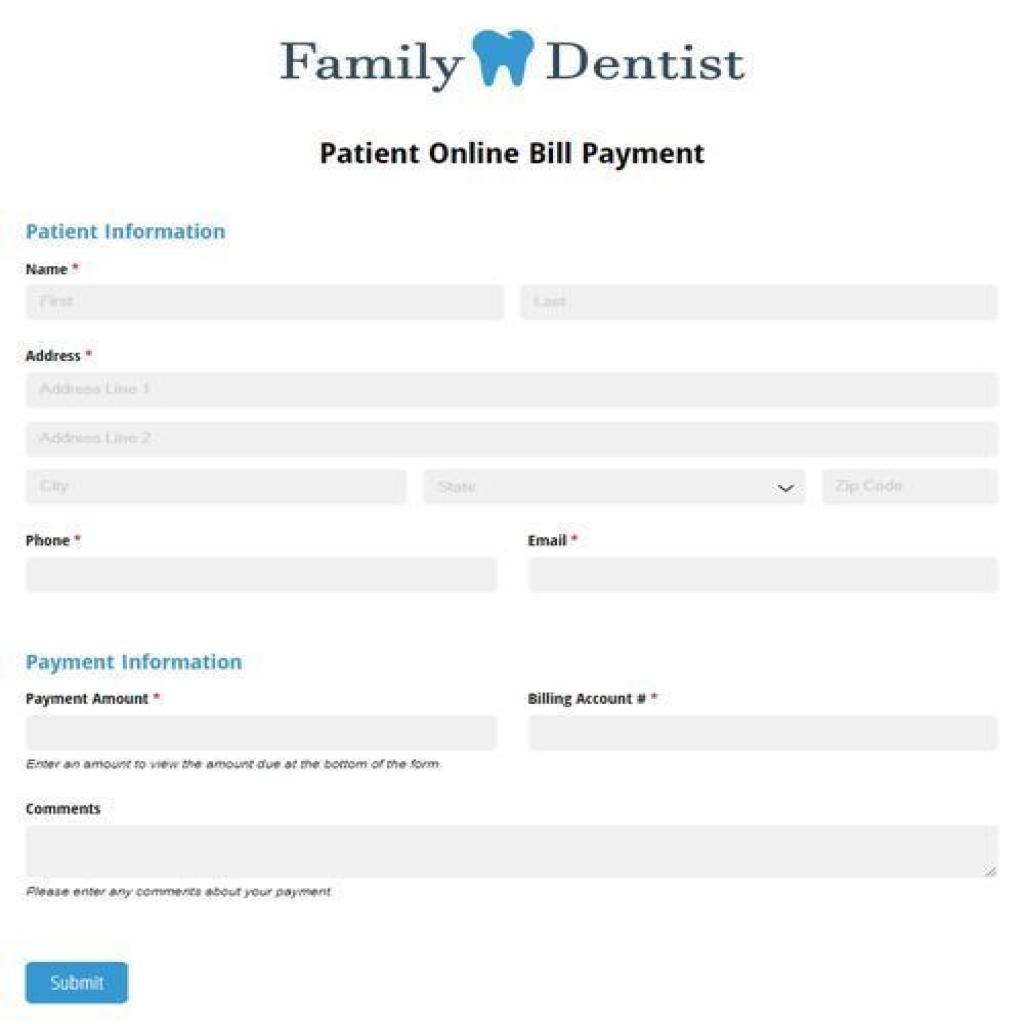button: (29, 962, 131, 1004)
dropdown: (422, 469, 807, 506)
input: (22, 823, 1002, 880), (31, 372, 999, 408), (26, 421, 998, 456), (24, 714, 500, 754), (528, 554, 1002, 594), (528, 714, 994, 753), (522, 284, 1004, 320), (30, 555, 500, 591), (31, 289, 504, 322), (28, 467, 408, 503), (824, 472, 998, 505)
label: (299, 127, 727, 183), (16, 208, 260, 252), (18, 647, 254, 681), (24, 756, 446, 773), (22, 884, 338, 903), (516, 679, 676, 714), (20, 797, 121, 826), (23, 689, 174, 707), (14, 254, 96, 282), (14, 522, 92, 550), (16, 338, 100, 363), (518, 524, 586, 552)
